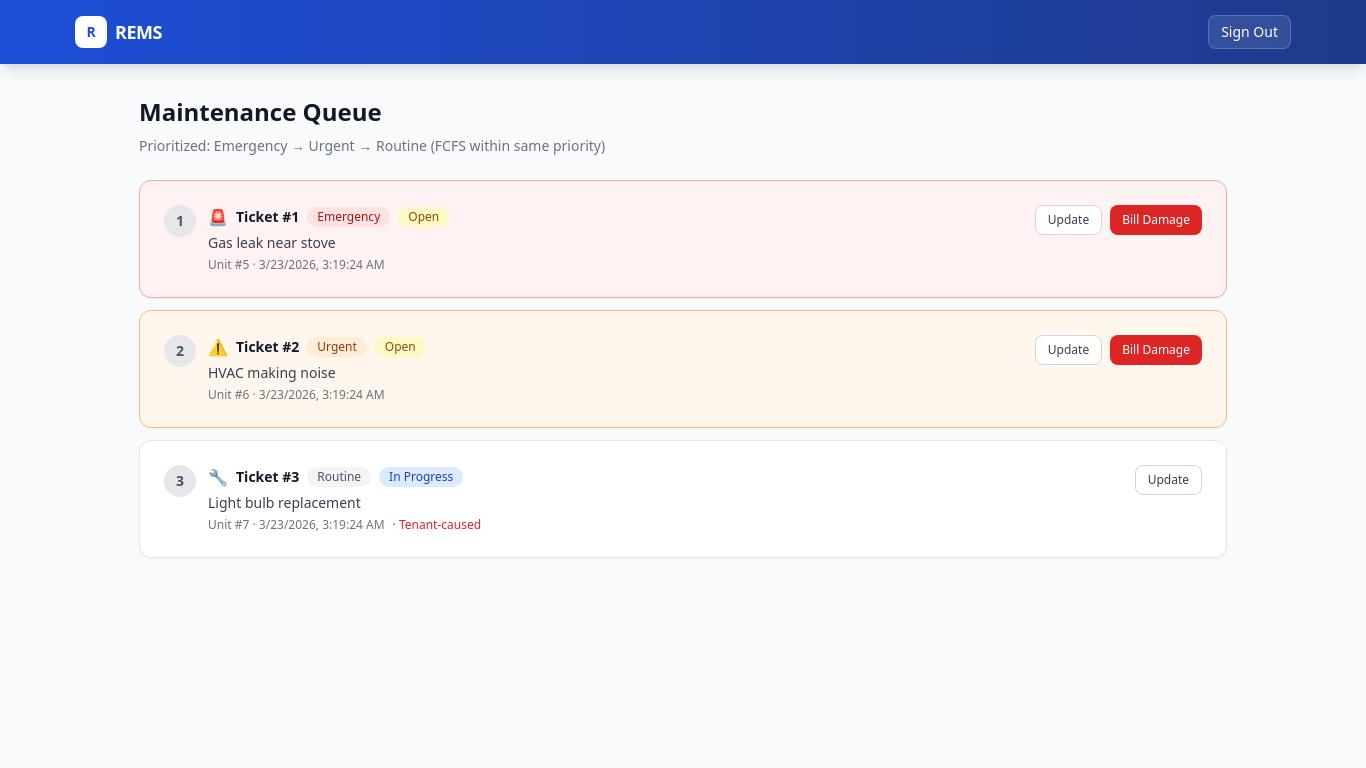
Test case: TC-23: Maintenance Queue page (clerk) › opens Update Status modal when Update is clicked
Click the 1st button "Update". click: (1068, 220)
box: top-left (1035, 205), bottom-right (1102, 235)
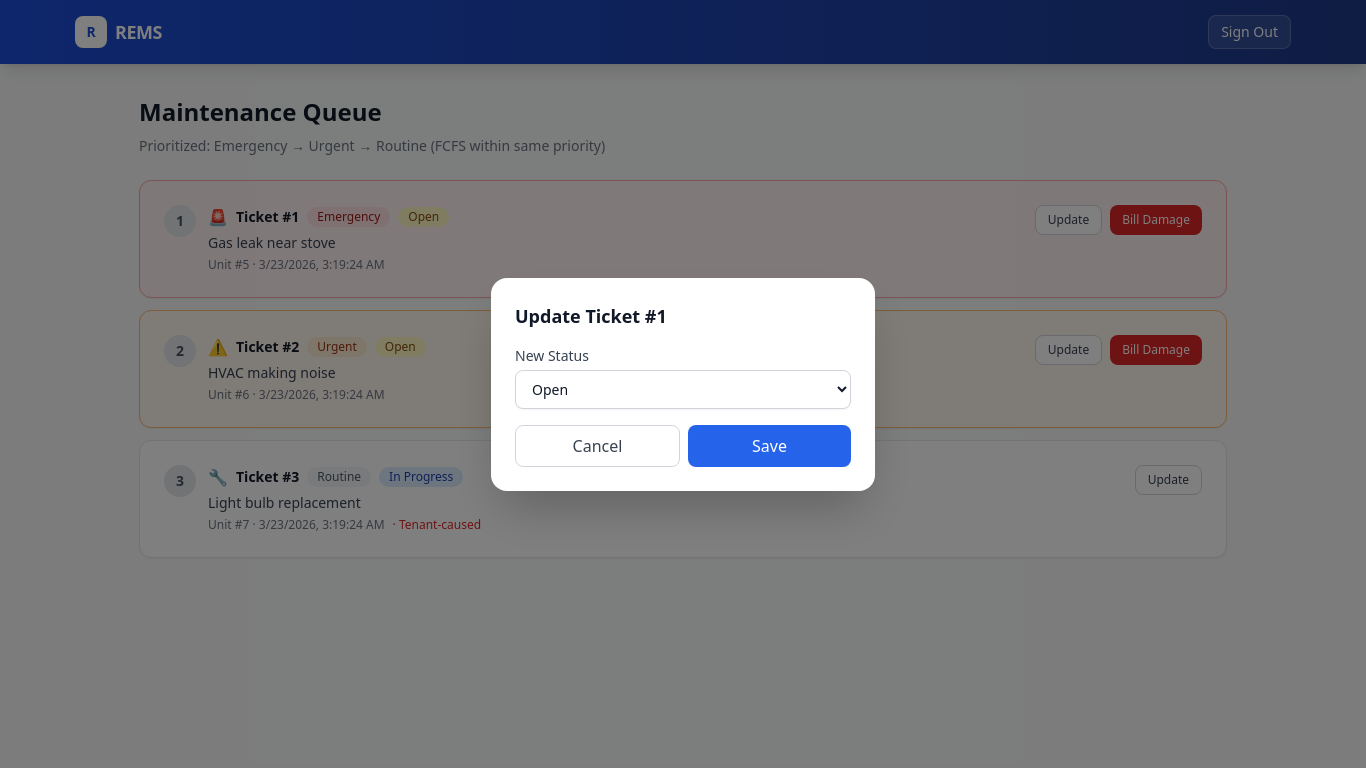
Check: the heading "Update Ticket #1" is shown, box top-left (515, 304), bottom-right (667, 328)
Check: the button "Save" is shown, box top-left (688, 424), bottom-right (851, 466)
